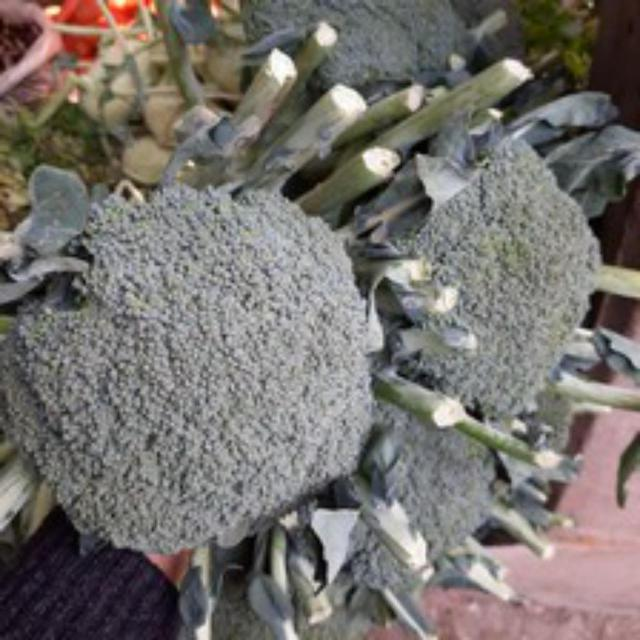broccoli: (17, 142, 396, 570)
